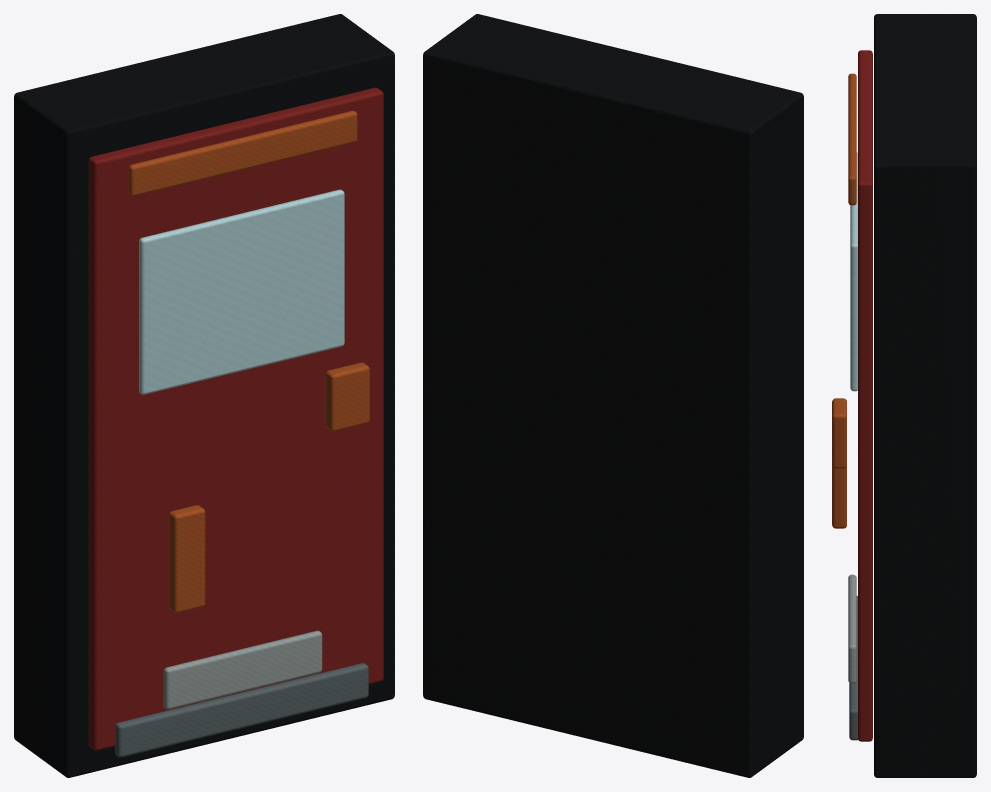
File: FireBlanketCabinet.fbx
The picture shows the model from 3 angles, left to right: view 1: azimuth 30°, elevation 25°; view 2: azimuth 150°, elevation 25°; view 3: azimuth 270°, elevation 25°; orthographic projection. The views are drawn at different scales.
Parts seen in each view (by area): view 1: FireBlanketCabinet_Mesh; view 2: FireBlanketCabinet_Mesh; view 3: FireBlanketCabinet_Mesh.
Part boxes in pixels (x1,y1,x2,y2): FireBlanketCabinet_Mesh: [14, 14, 394, 777]; FireBlanketCabinet_Mesh: [423, 14, 803, 777]; FireBlanketCabinet_Mesh: [832, 14, 976, 777].
Bounding box in the file's own units: 84 × 158 × 33.75.
